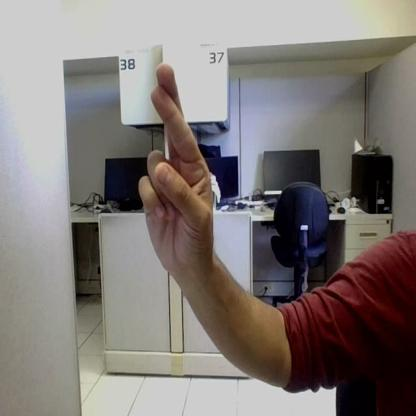R: (139, 64, 213, 275)
